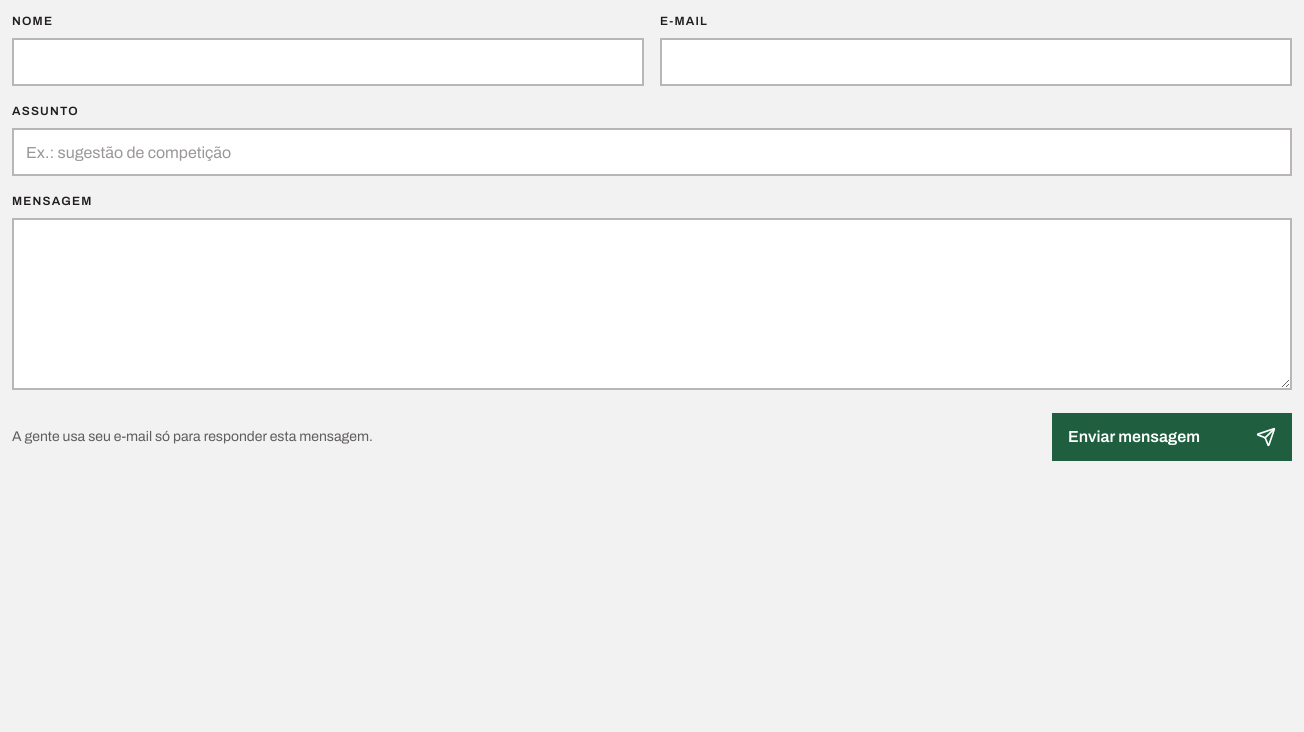
FormFaleConosco › mostra o erro da API (ex.: limite de mensagens) e mantém o que foi escrito
The image size is (1304, 732).
Step 1. Type "Bia Souza" into the field labelled "Nome" → x=328, y=62, box x1=12 y1=38 x2=644 y2=86
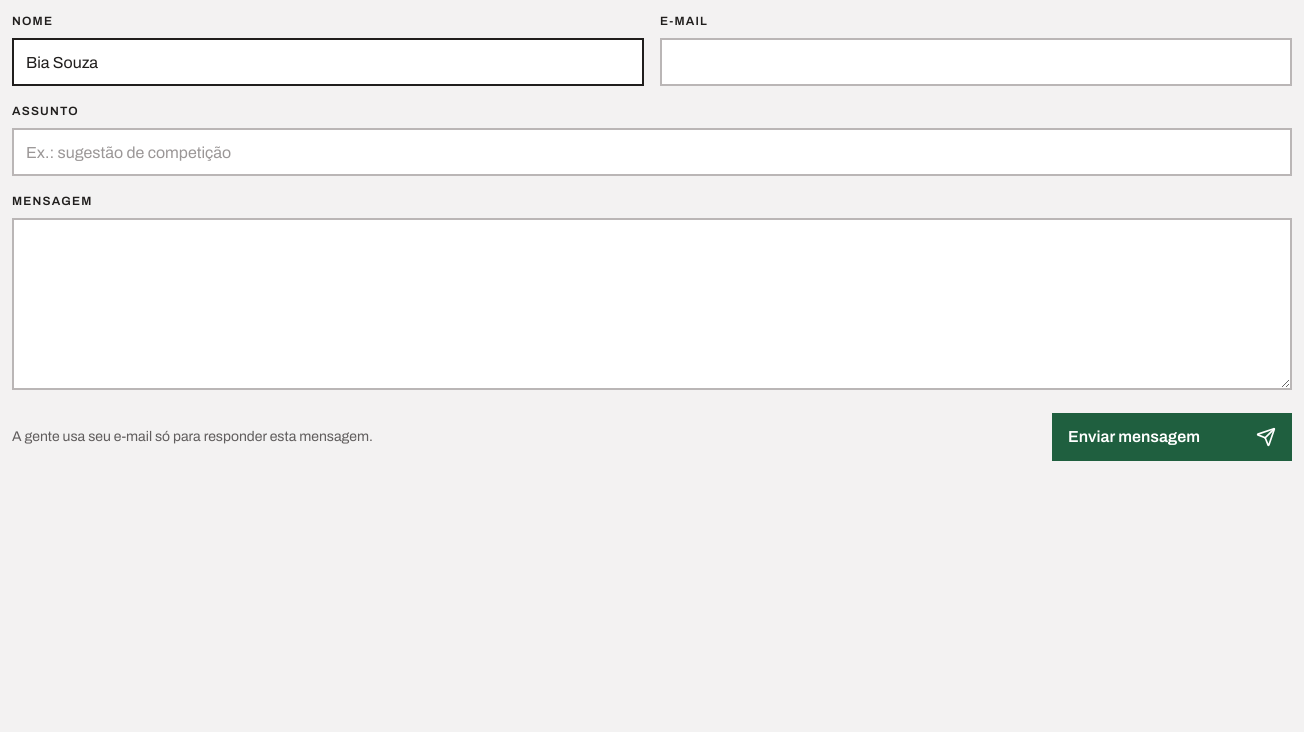
Step 2. Type "bia@exemplo.com" into the field labelled "E-mail" → x=976, y=62, box x1=660 y1=38 x2=1292 y2=86
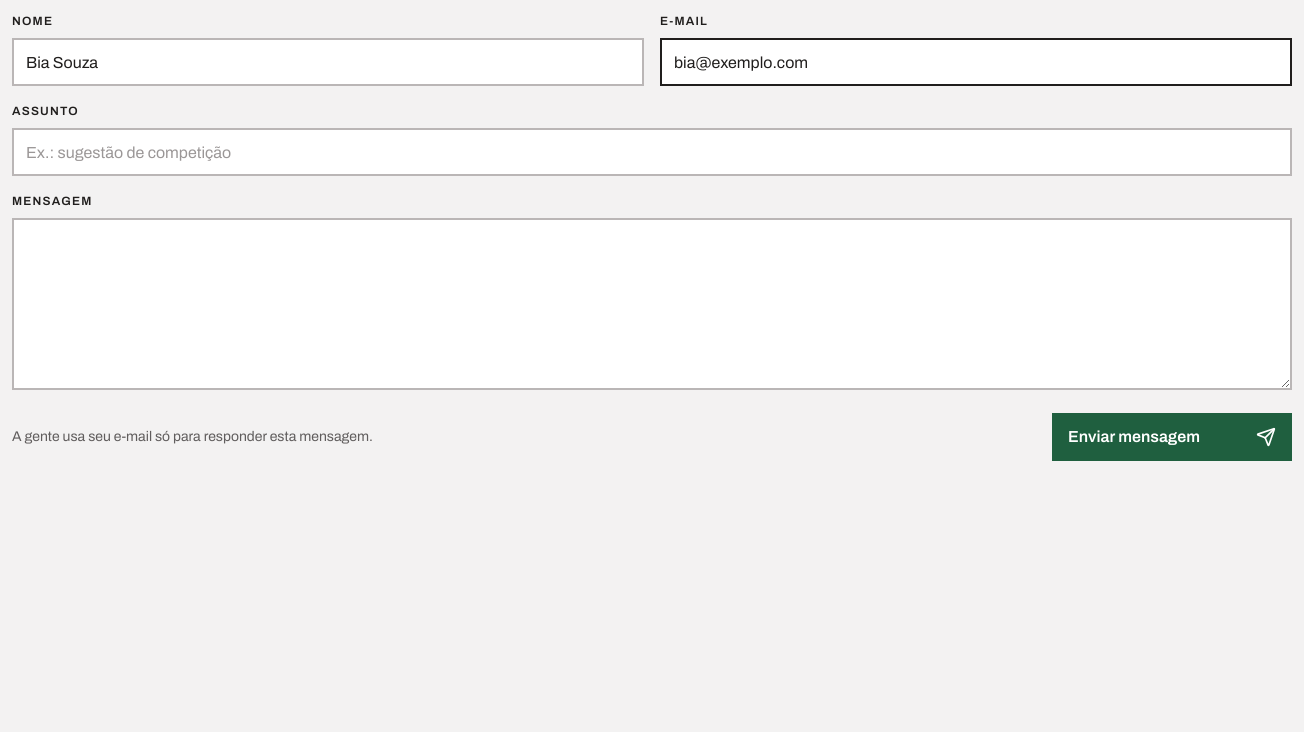
Step 3. Type "Sugestão" into the field labelled "Assunto" → x=652, y=152, box x1=12 y1=128 x2=1292 y2=176
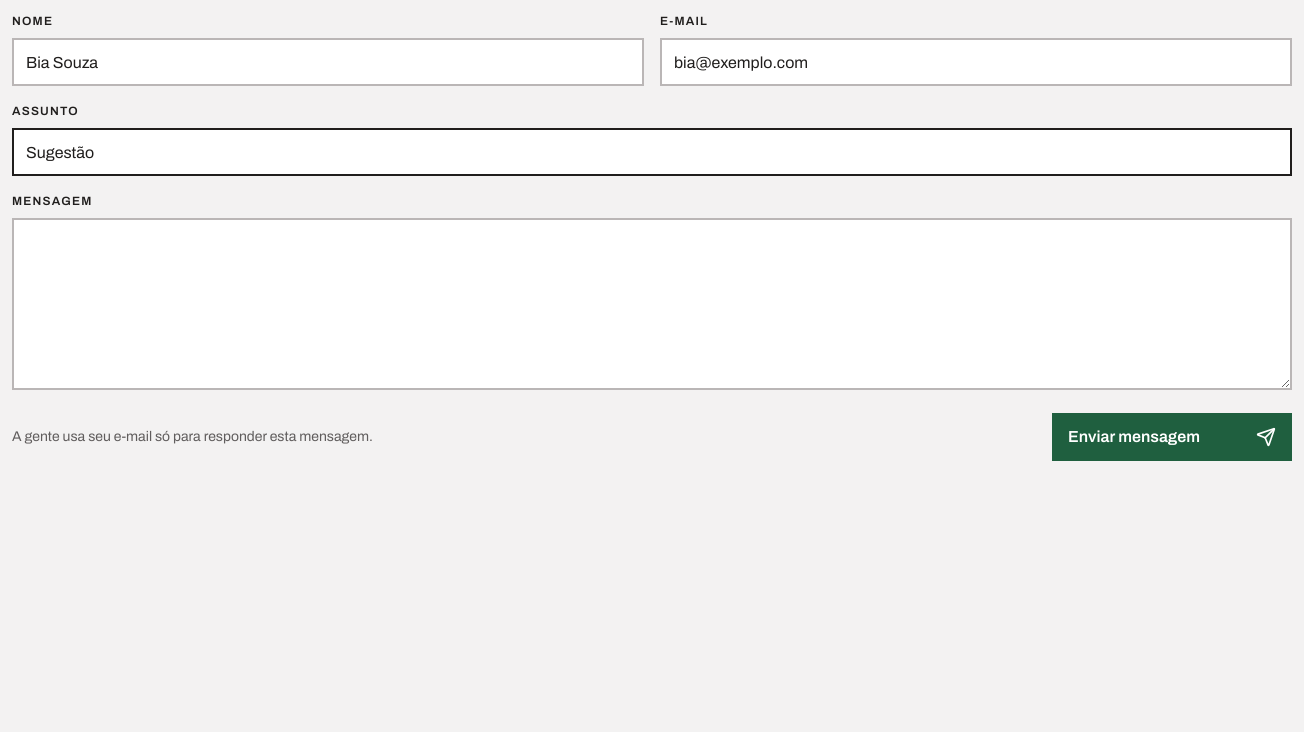
Step 4. Type "Coloquem a Copa do Mundo!" into the text box labelled "Mensagem" → x=652, y=304, box x1=12 y1=218 x2=1292 y2=390
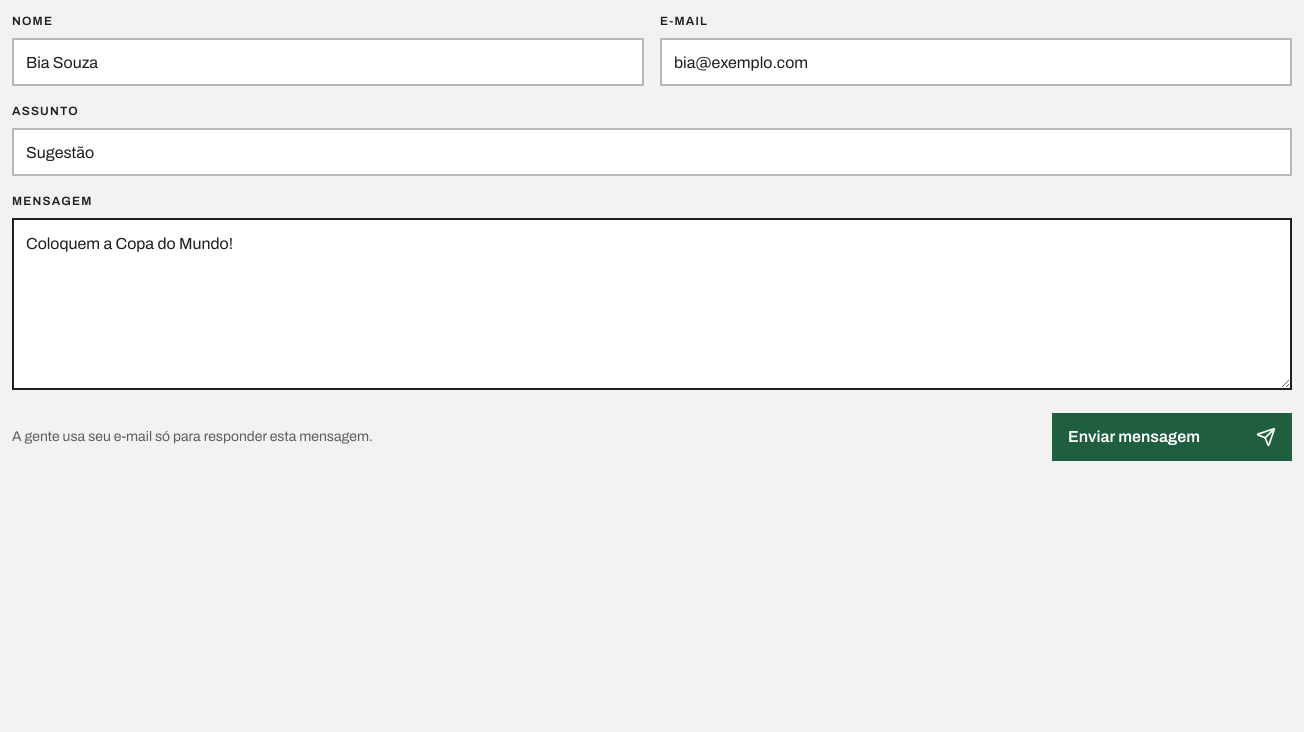
Step 5. Click the button "Enviar mensagem" → x=1172, y=437, box x1=1052 y1=413 x2=1292 y2=461
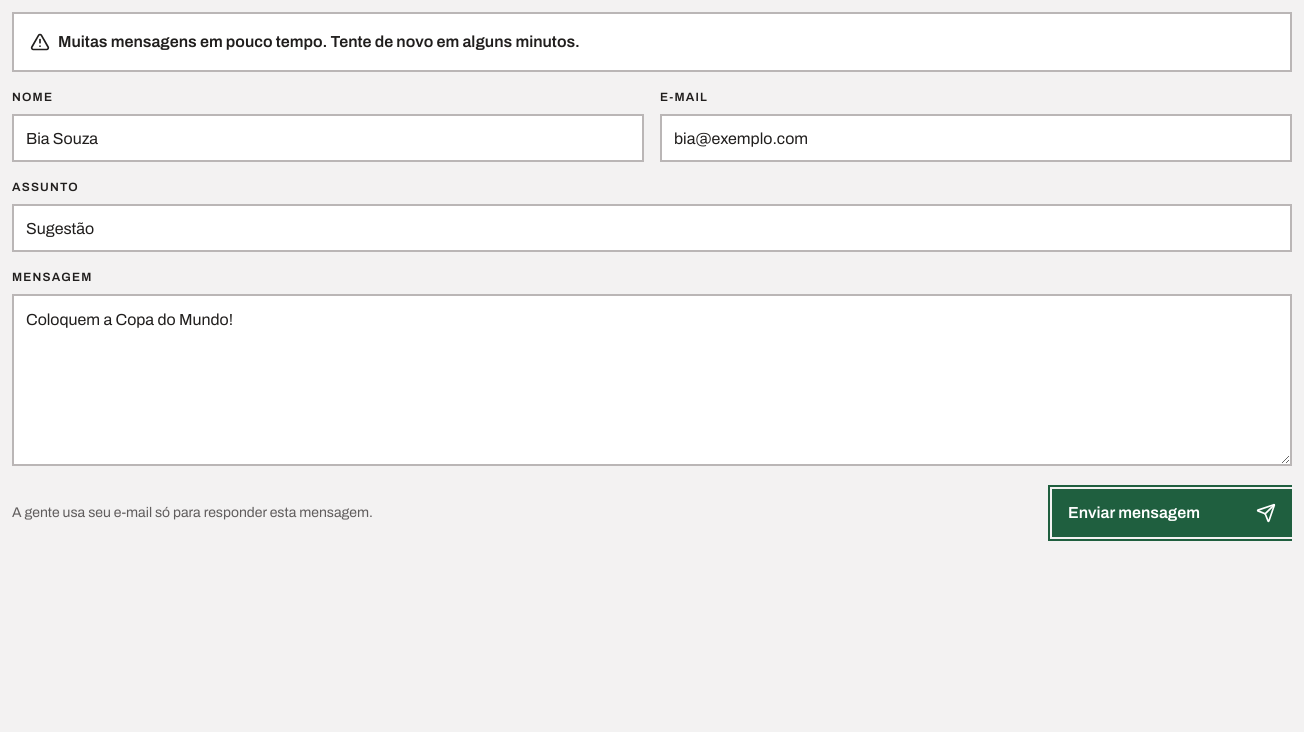
Result: the text "Muitas mensagens em pouco tempo" is shown at x1=58 y1=33 x2=580 y2=50
